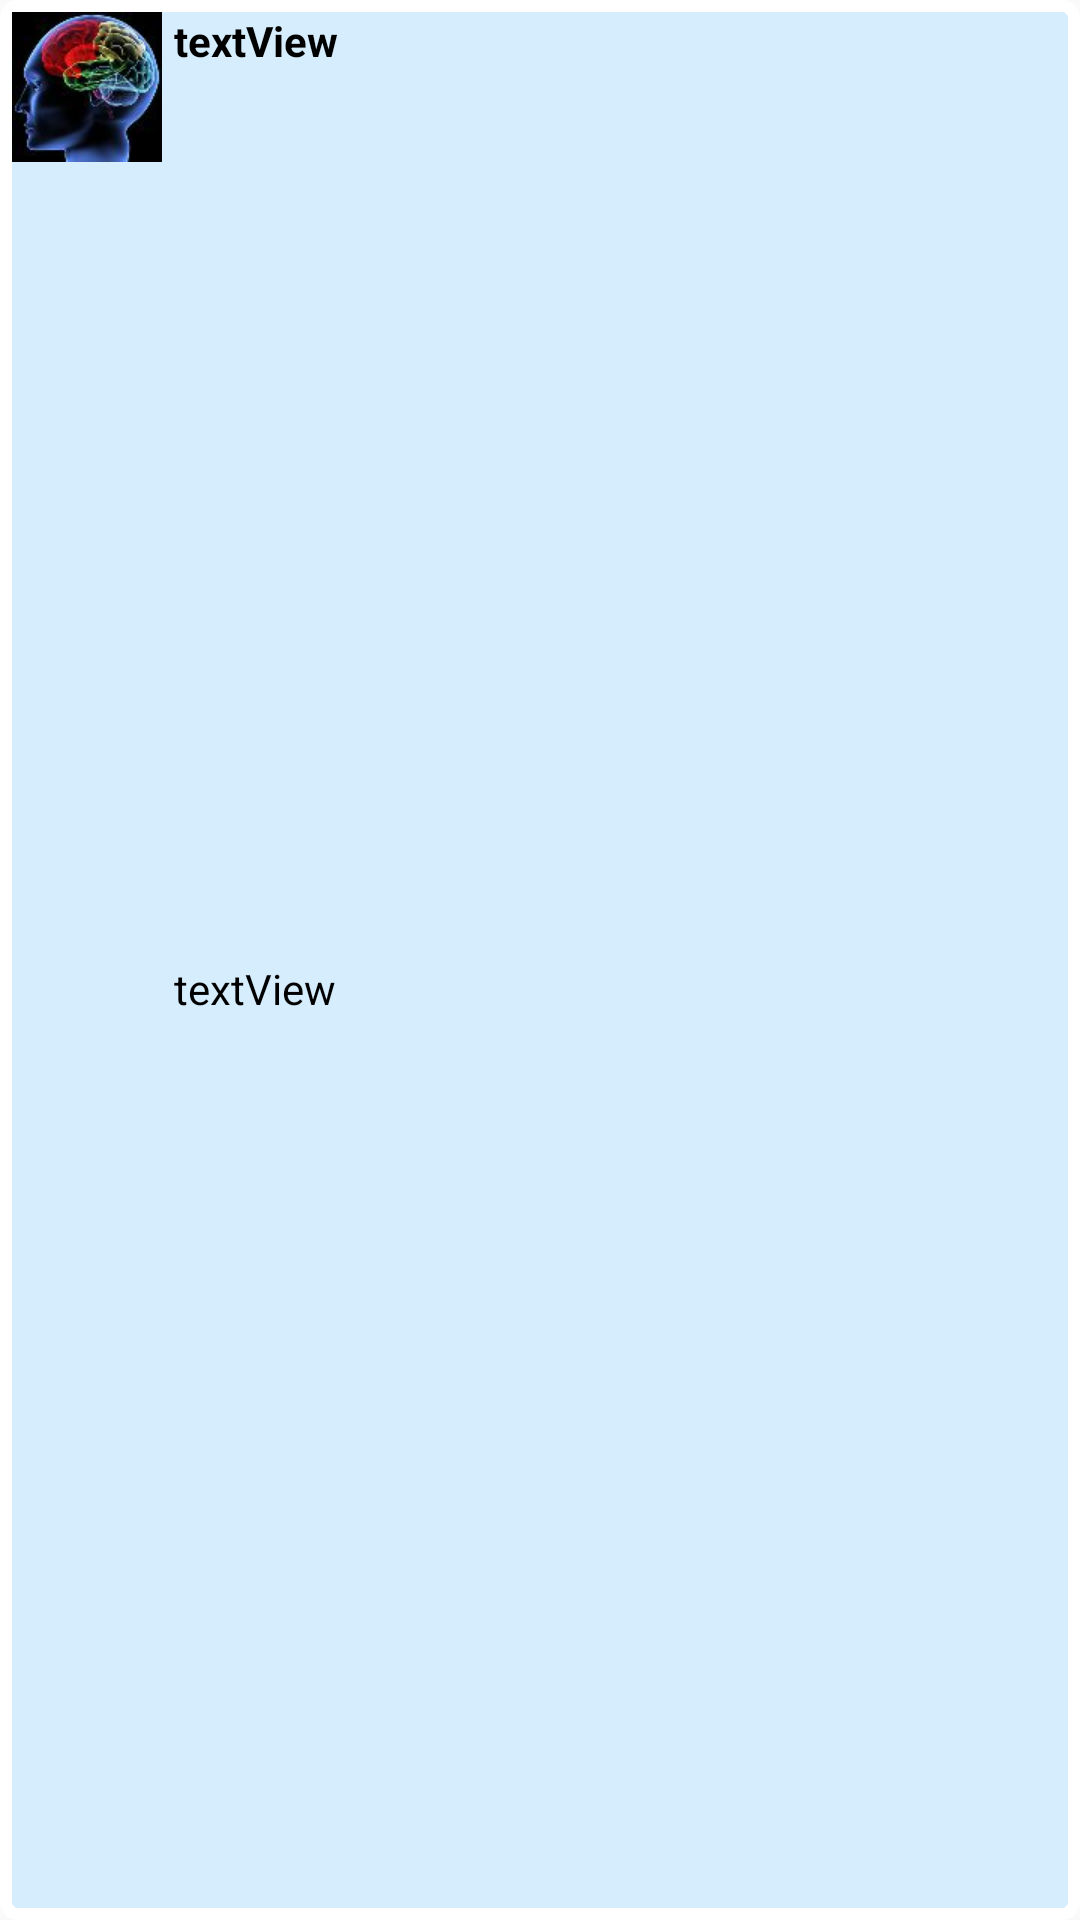

Icons on this 1080 x 1920 Android screen, each with the point to tap as [x,y]:
category icon: [87,87]
